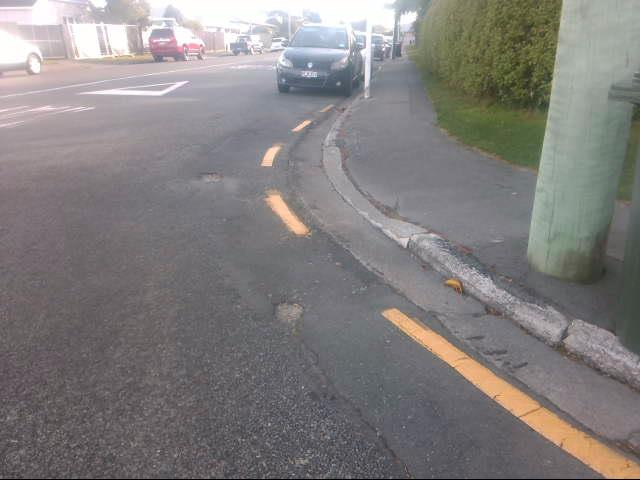pothole: (272, 300, 303, 330), (199, 168, 221, 184)
